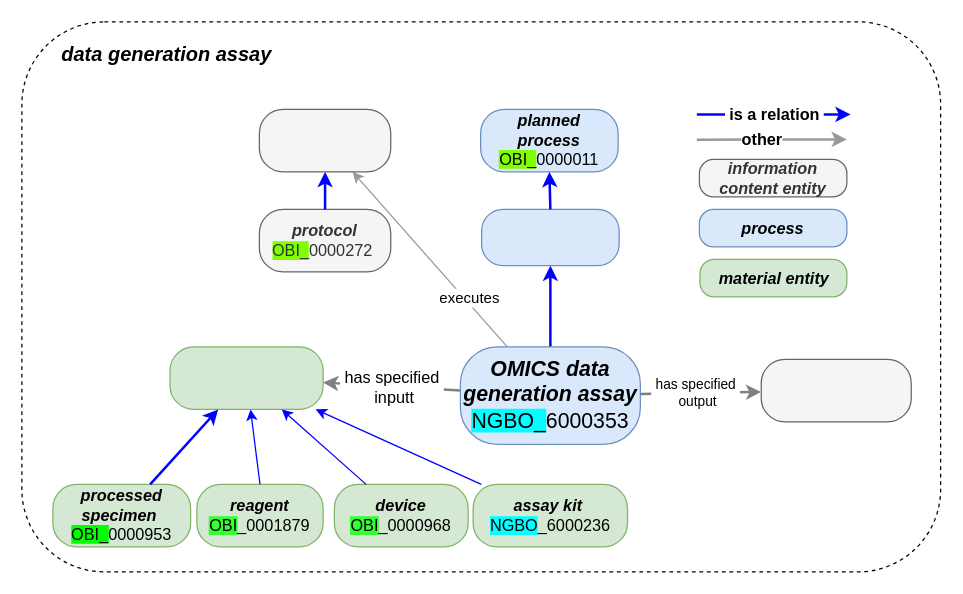
This 963x594 diagram has some shape labels left out. The centre of each missing label's shape, as x and y in pixels:
assay OBI_ 0000070: point 549,237
measurement datum IAO_ 0000109: point 835,390
plan specification IAO_ 0000104: point 324,140
processed material OBI_ 0000047: point 246,377
